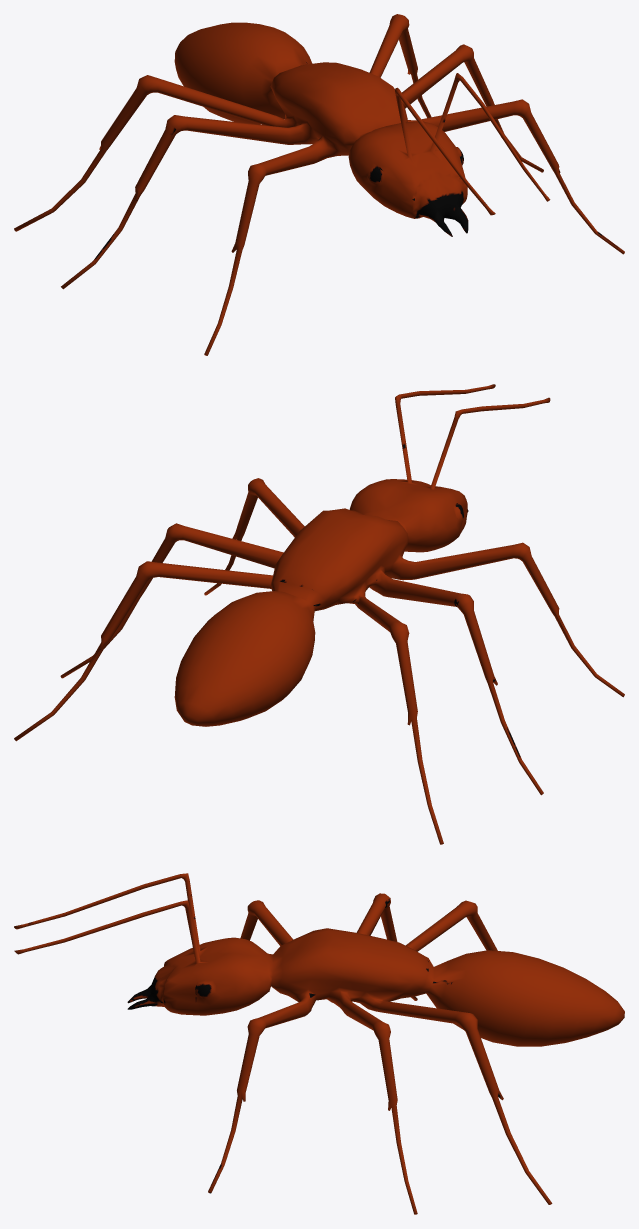
The model's file is ant.fbx.
The picture shows the model from 3 angles, top to bottom: view 1: azimuth 30°, elevation 25°; view 2: azimuth 150°, elevation 25°; view 3: azimuth 270°, elevation 25°; orthographic projection. The views are drawn at different scales.
Visible parts, largest first — view 1: ANT_BLK; view 2: ANT_BLK; view 3: ANT_BLK.
Part boxes in pixels (x1=…): ANT_BLK: x1=14, y1=14, x2=624, y2=355; ANT_BLK: x1=14, y1=384, x2=624, y2=844; ANT_BLK: x1=14, y1=873, x2=624, y2=1214.
Size of the model in its own units: 104 by 50.29 by 125.
1 material, 1 textured.
